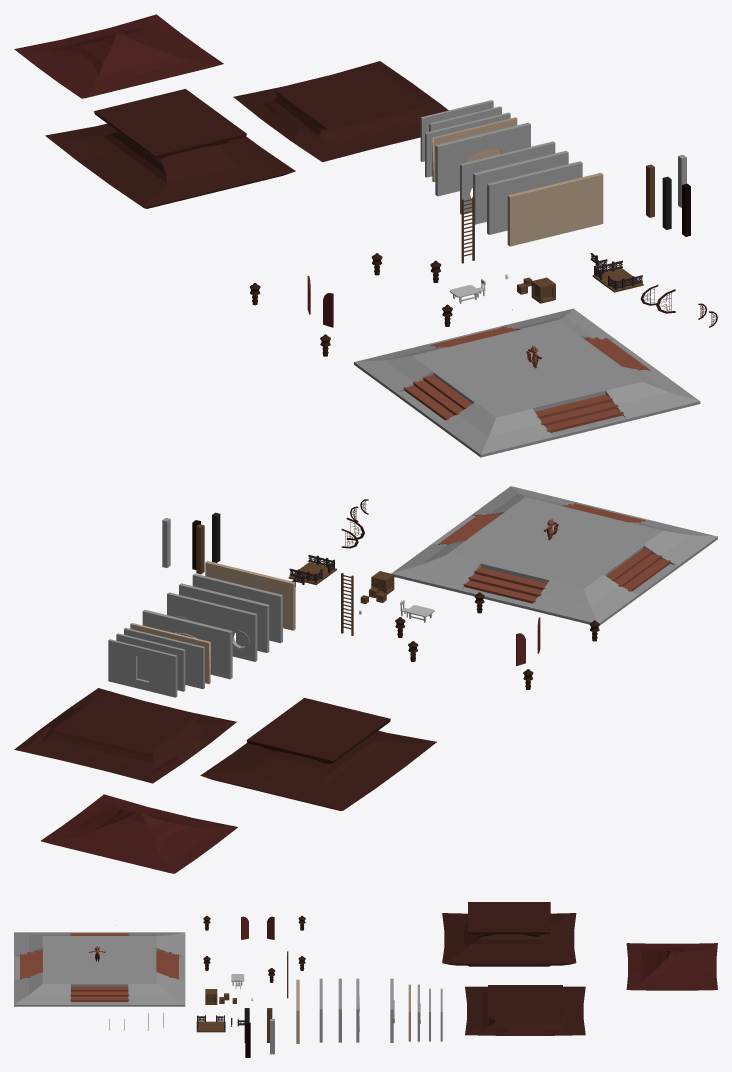
Rendered from Building_roof.fbx.
3 renders of one model, top to bottom at view 1: azimuth 30°, elevation 25°; view 2: azimuth 150°, elevation 25°; view 3: azimuth 270°, elevation 25°, orthographic. The views are drawn at different scales.
Parts seen in each view (by area): view 1: Cube, Cube.005, Cube.006, Cube.008, Plane.002, Plane.004, Plane.005, Plane.010, Plane, Plane.012, Plane.011, Plane.001; view 2: Cube, Cube.005, Cube.006, Cube.008, Plane.001, Plane, Plane.004, Plane.002, Plane.010, Plane.005, Plane.011, Plane.013 (+2 smaller); view 3: Cube, Cube.005, Cube.006, Cube.008, Plane.003, Cube.001, Cylinder.001, Plane.004.
Part boxes in pixels (bbox=[...]): Cube: bbox=[354, 308, 700, 457]; Cube.005: bbox=[45, 89, 295, 208]; Cube.006: bbox=[233, 61, 448, 162]; Cube.008: bbox=[14, 14, 223, 98]; Plane.002: bbox=[507, 172, 603, 246]; Plane.004: bbox=[435, 122, 530, 196]; Plane.005: bbox=[487, 161, 582, 234]; Plane.010: bbox=[473, 150, 568, 224]; Plane: bbox=[460, 141, 555, 214]; Plane.012: bbox=[432, 117, 517, 181]; Plane.011: bbox=[425, 112, 510, 177]; Plane.001: bbox=[420, 100, 493, 161]; Cube: bbox=[391, 486, 717, 625]; Cube.005: bbox=[200, 698, 436, 810]; Cube.006: bbox=[14, 688, 236, 783]; Cube.008: bbox=[41, 794, 238, 873]; Plane.001: bbox=[108, 639, 177, 697]; Plane: bbox=[167, 592, 257, 661]; Plane.004: bbox=[142, 609, 232, 679]; Plane.002: bbox=[205, 561, 295, 630]; Plane.010: bbox=[179, 583, 269, 652]; Plane.005: bbox=[192, 573, 282, 643]; Plane.011: bbox=[124, 627, 204, 688]; Plane.013: bbox=[116, 633, 185, 691]; Cube: bbox=[14, 932, 185, 1006]; Cube.005: bbox=[442, 902, 576, 966]; Cube.006: bbox=[465, 985, 585, 1035]; Cube.008: bbox=[626, 943, 717, 990]; Plane.003: bbox=[241, 916, 274, 939]; Cube.001: bbox=[196, 1021, 225, 1032]; Cylinder.001: bbox=[203, 915, 305, 970]; Plane.004: bbox=[390, 978, 394, 1042].
Size of the model in its own units: 11492 by 1763 by 24983.
